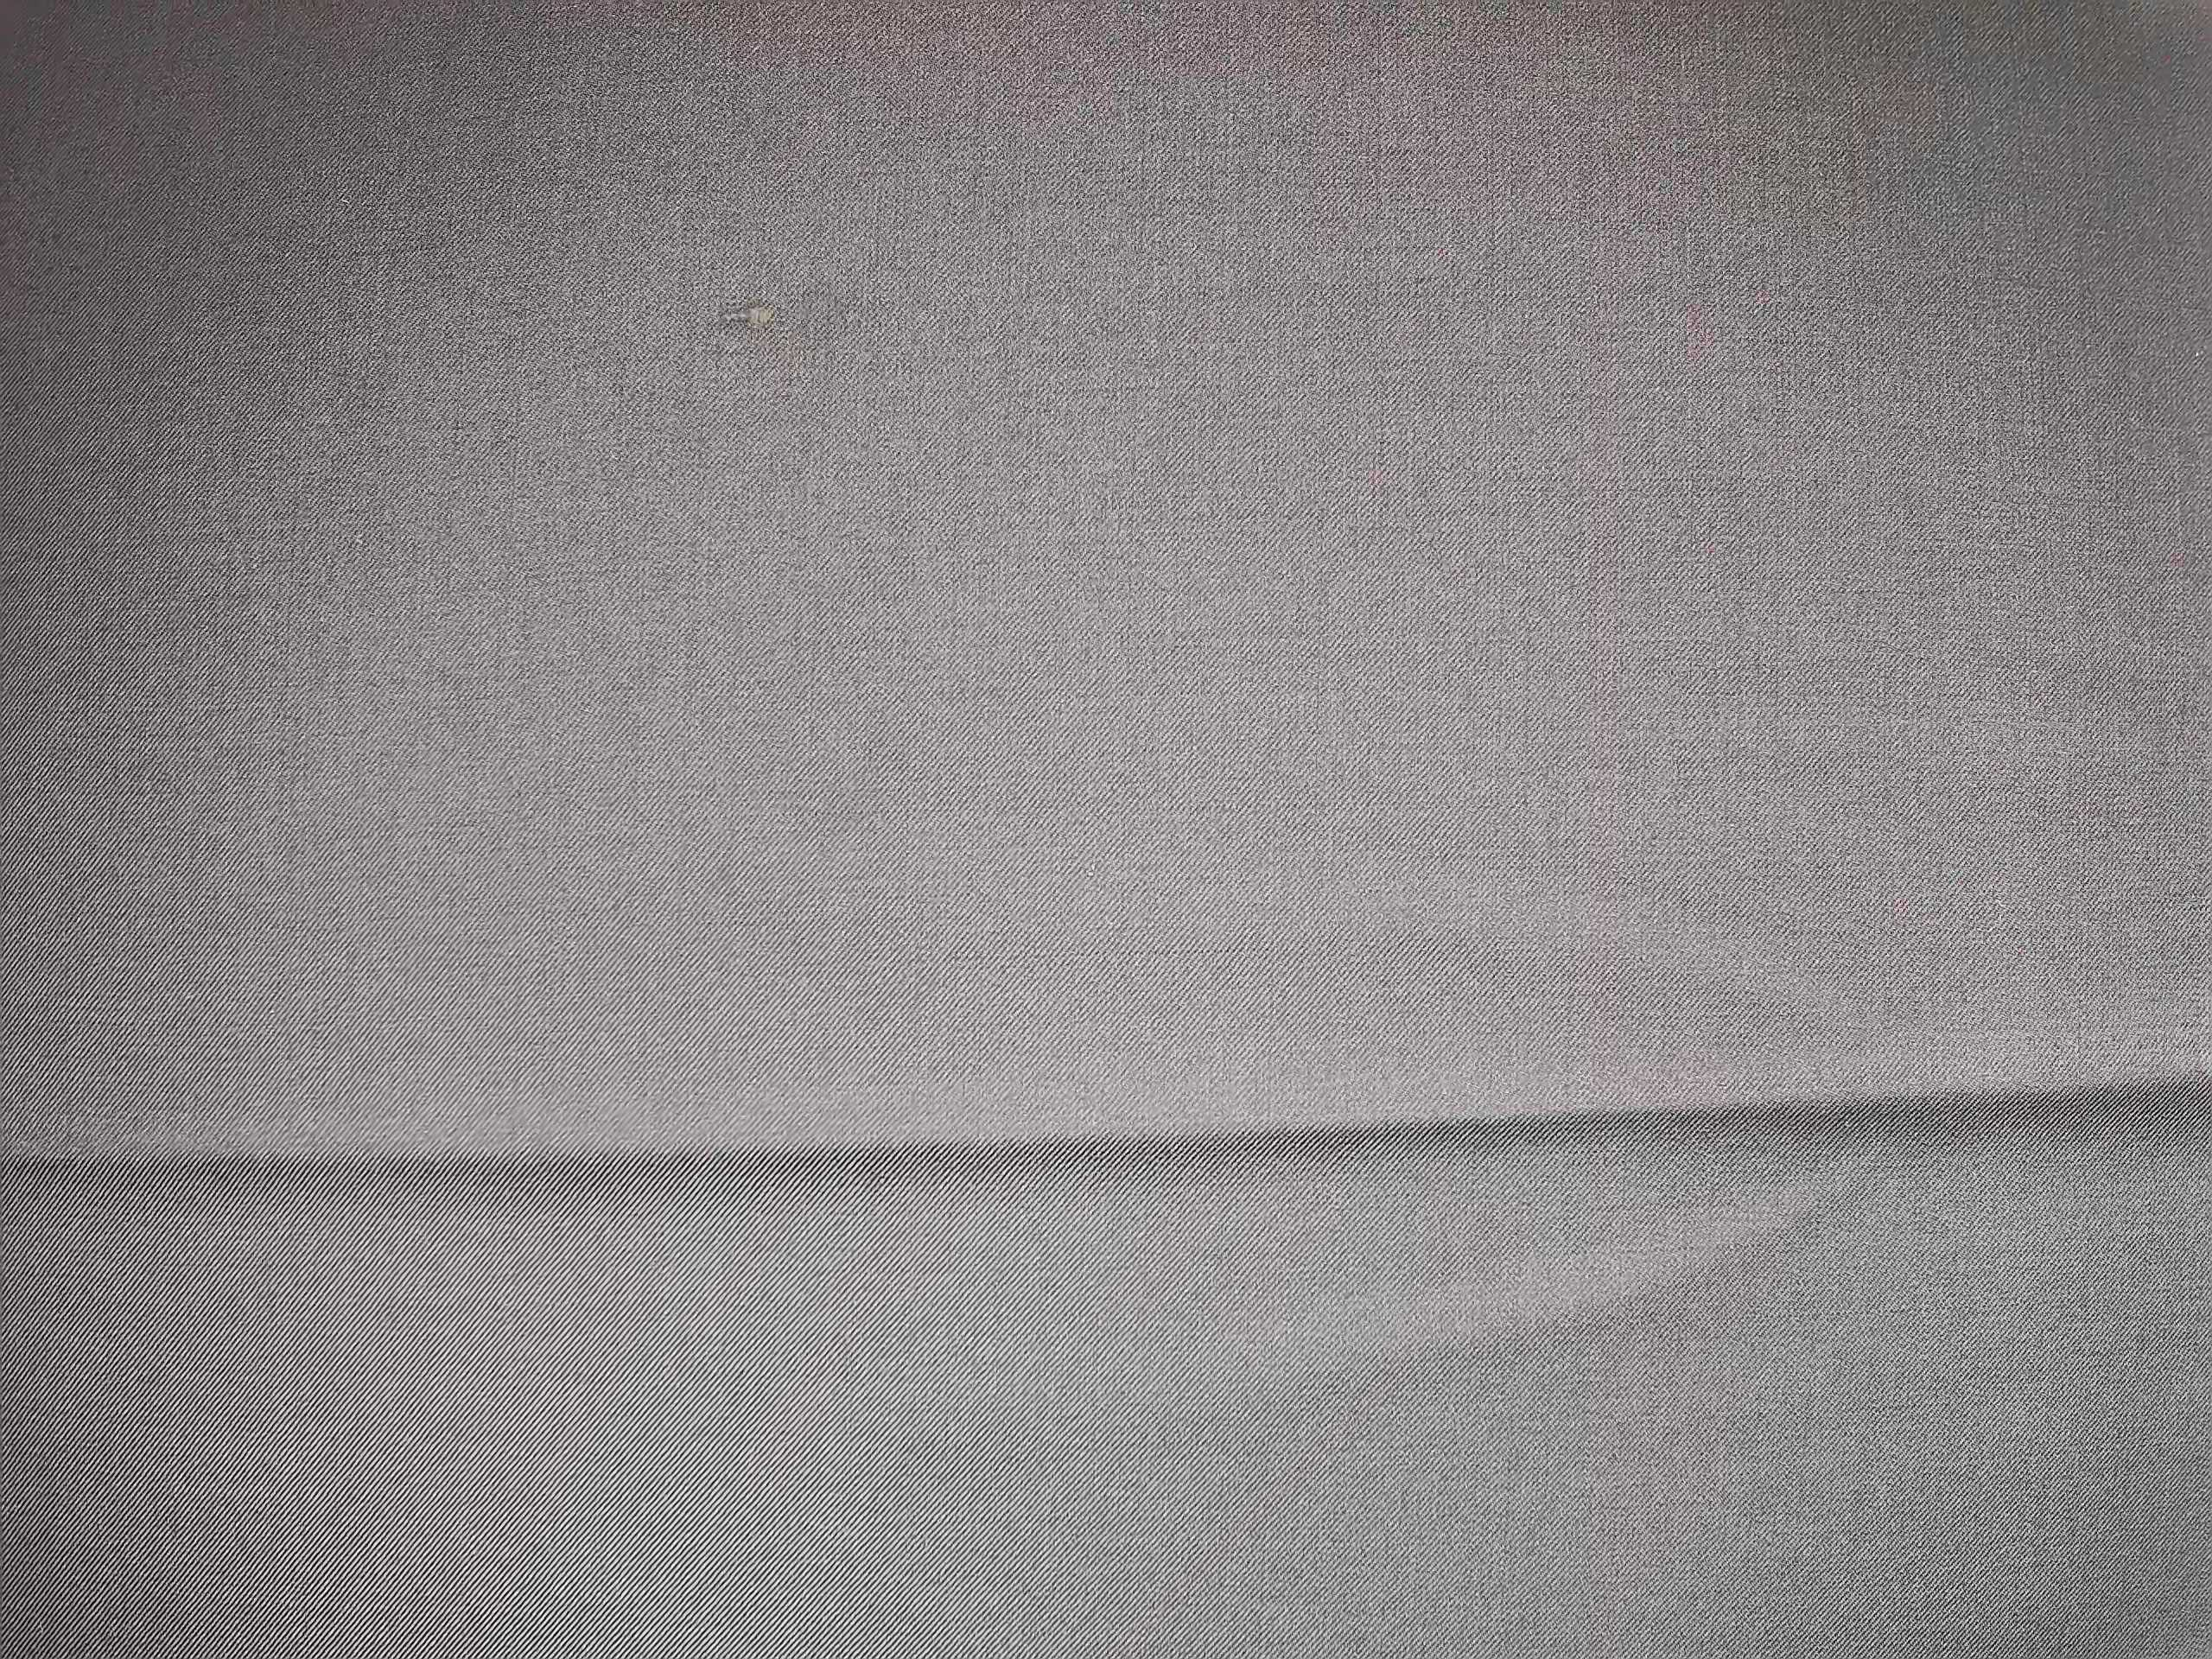others: (700, 289, 798, 342)
